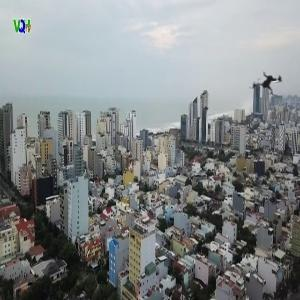drone: (238, 55, 299, 116)
